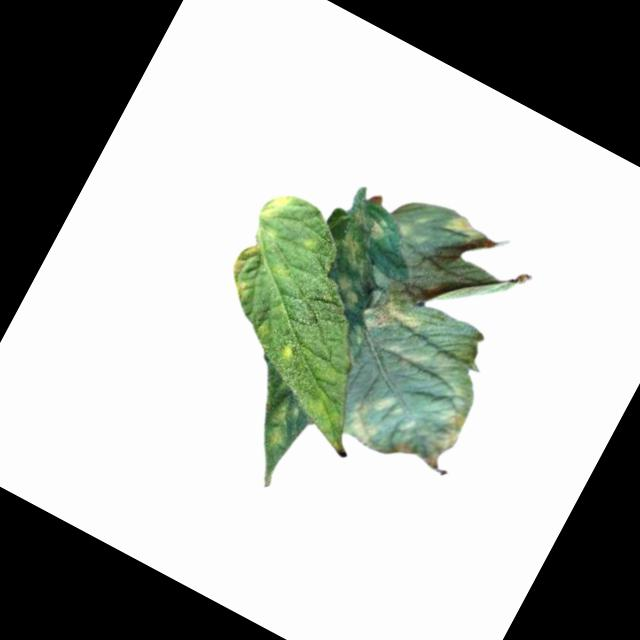Leaf_Mold: (314, 229, 388, 313), (362, 276, 435, 350), (338, 379, 405, 454), (416, 406, 478, 481), (216, 239, 271, 307), (255, 392, 304, 452), (255, 186, 297, 235), (442, 209, 485, 249)
